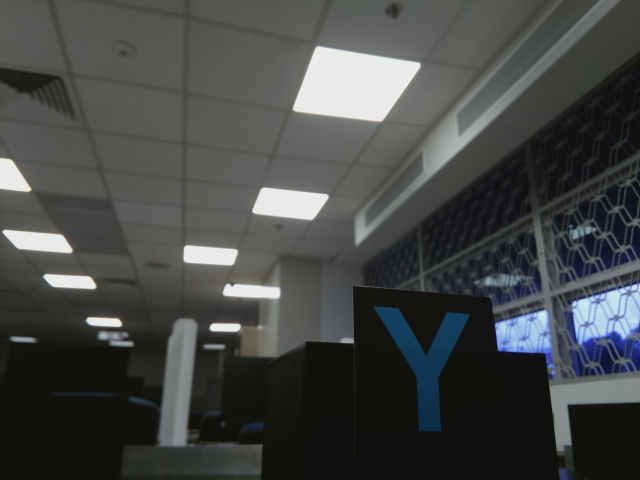y: (373, 298, 472, 444)
